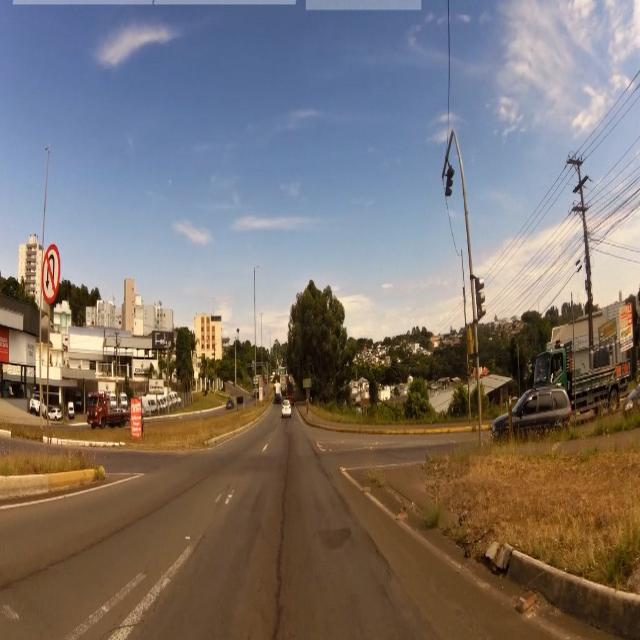R-5a: (38, 243, 64, 306)
